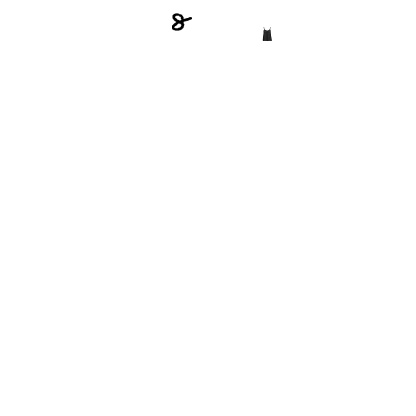8: (165, 7, 193, 35)
T-shirt/top: (260, 27, 274, 41)
